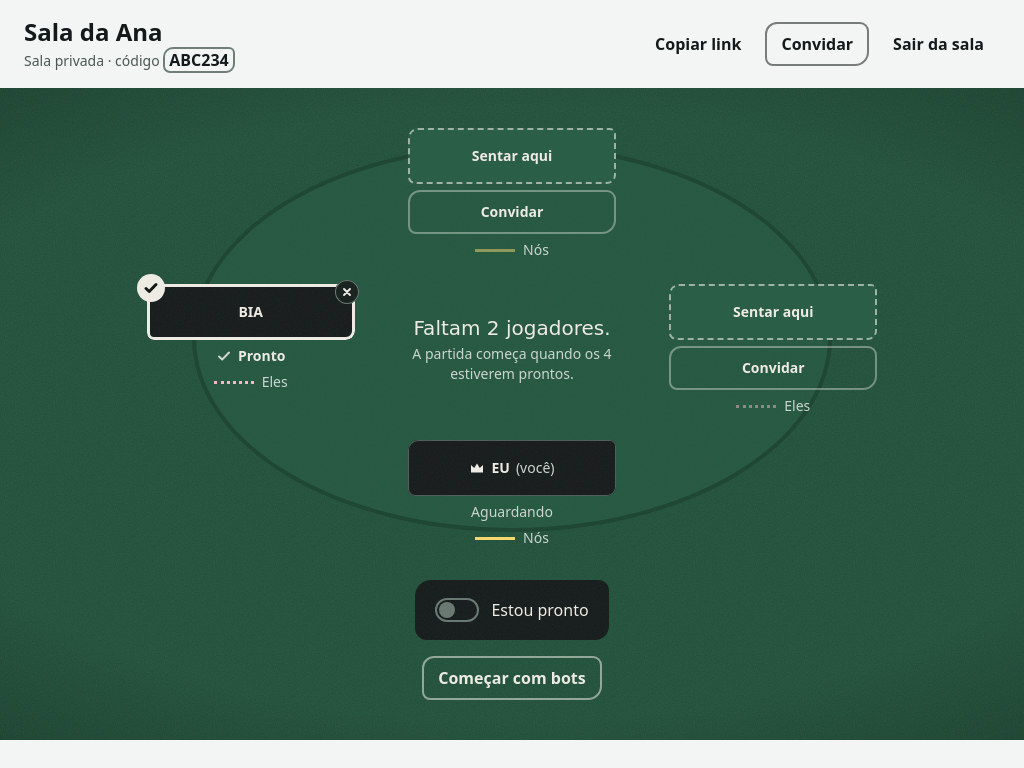
Test: Online omite eu e quem está sentado; quem joga aparece marcado e continua convidável
The width and height of the screenshot is (1024, 768).
Click the button "Convidar" in the row of "ABC234": (817,44) left=765, top=22, right=869, bottom=66
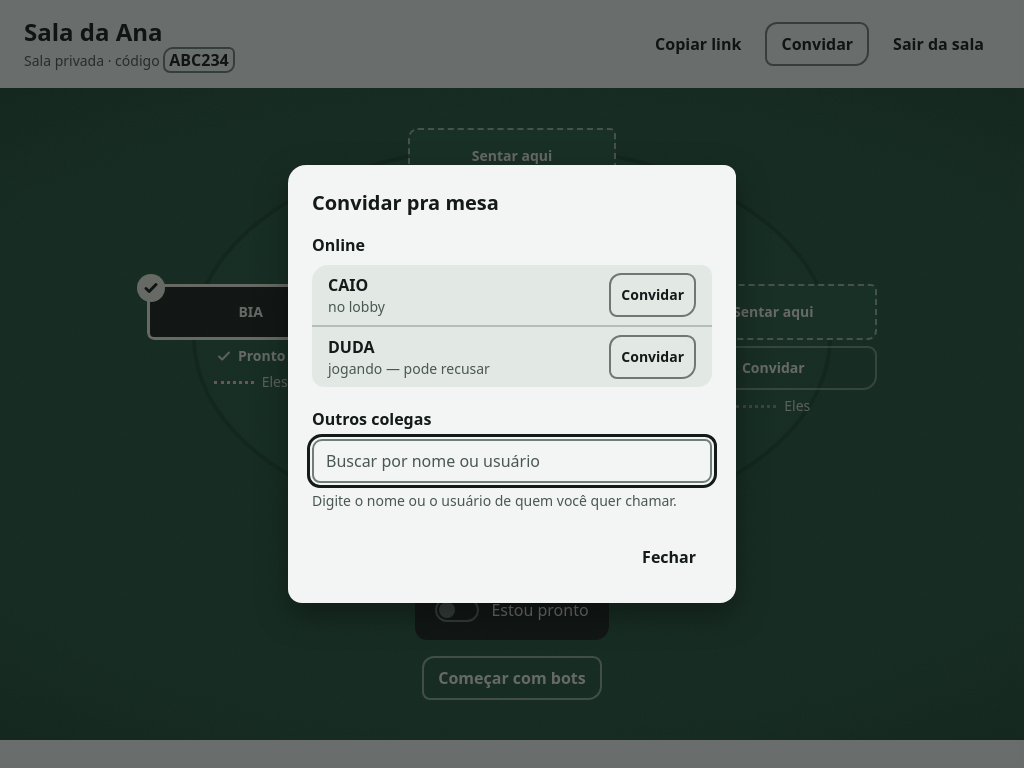
Check: the list item "DUDA jogando — pode recusar Convidar" is shown, box left=312, top=325, right=712, bottom=387
Check: the button "Convidar" in the row of "DUDA" is enabled, box left=609, top=335, right=696, bottom=379
